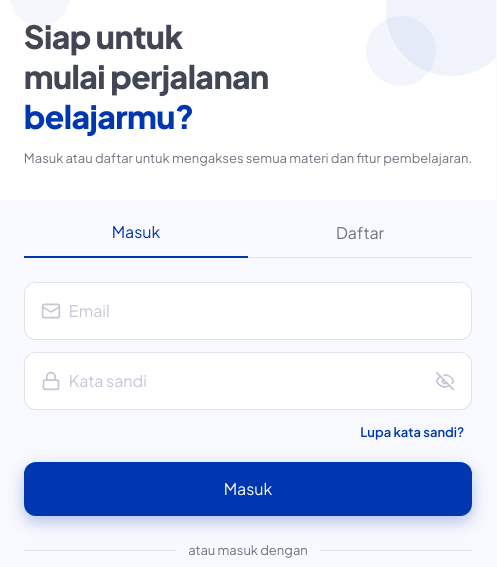
Scenario: AuthScreen › email tidak valid ditolak sebelum request
Type "bukan-email" into the field with placeholder "Email" at (262, 311), box [69,283,455,339]
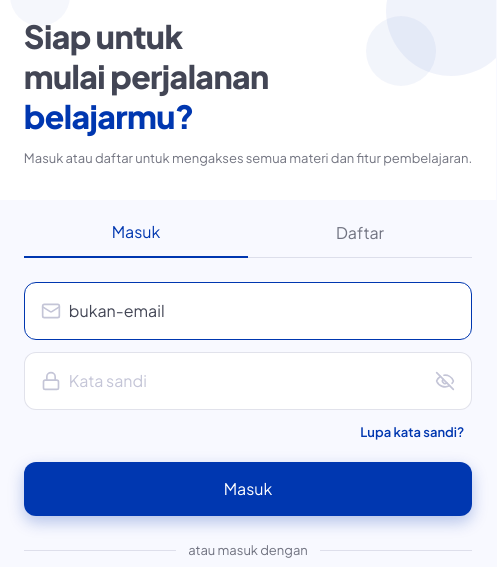
Type "rahasia12" into the password field with placeholder "Kata sandi" at (248, 381), box [69,353,427,409]
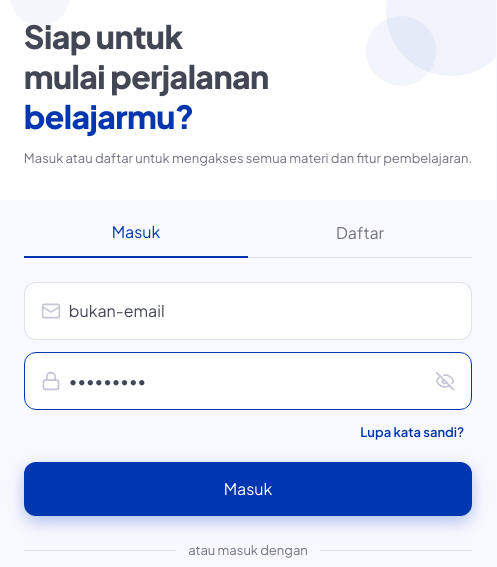
Click the button "Masuk" at (248, 489), box [24,462,472,516]
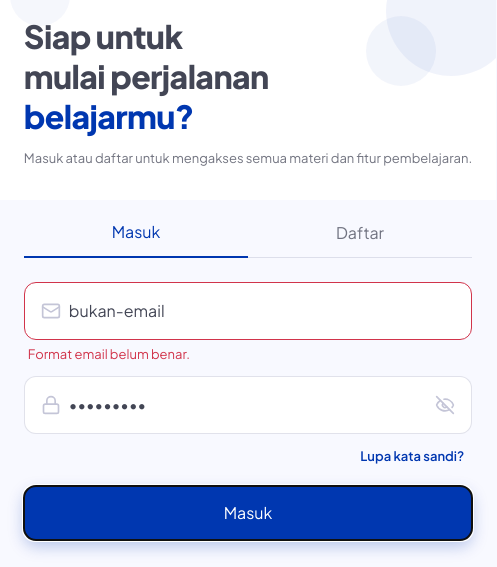
Expected: the text "Format email belum benar." is shown, [28,346,190,362]
